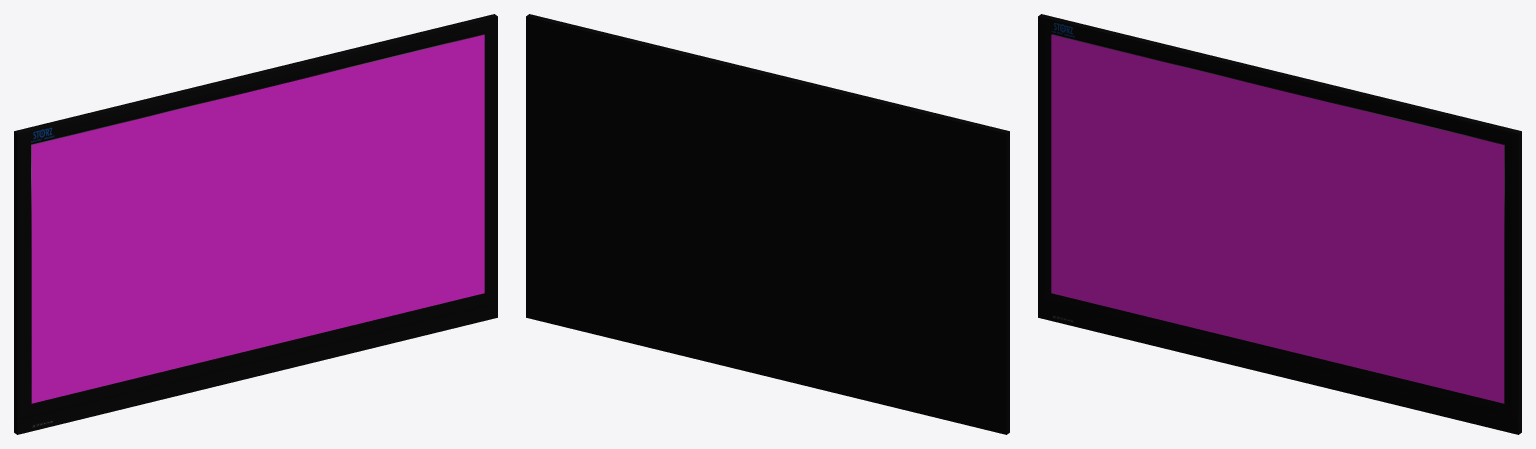
The model's file is StorzCollaborator.fbx.
The picture shows the model from 3 angles, left to right: view 1: azimuth 30°, elevation 25°; view 2: azimuth 150°, elevation 25°; view 3: azimuth 330°, elevation 25°; orthographic projection.
Visible parts, largest first — view 1: TV_wall_Flat_screen 85inch; view 2: TV_wall_Flat_screen 85inch; view 3: TV_wall_Flat_screen 85inch.
Boxes of the visible parts, left/top/right/bottom form: TV_wall_Flat_screen 85inch: left=14, top=14, right=497, bottom=434; TV_wall_Flat_screen 85inch: left=526, top=14, right=1009, bottom=434; TV_wall_Flat_screen 85inch: left=1038, top=14, right=1521, bottom=434.
Size of the model in its own units: 201 by 120 by 2.79.
